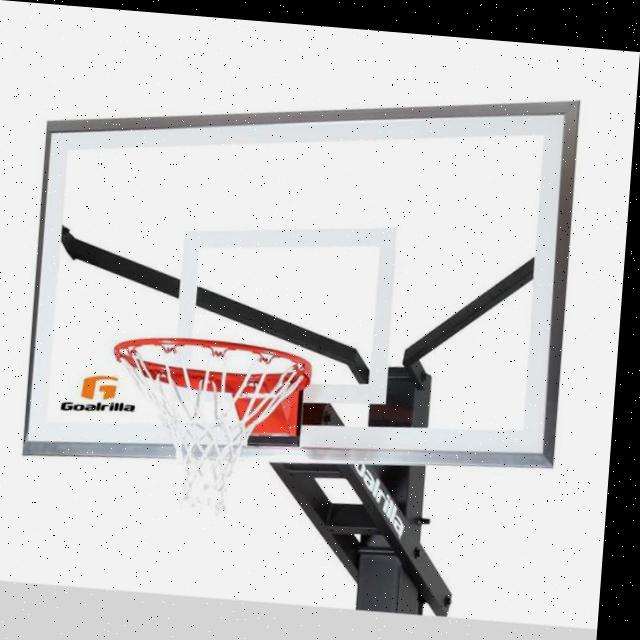hoop: (102, 332, 314, 522)
